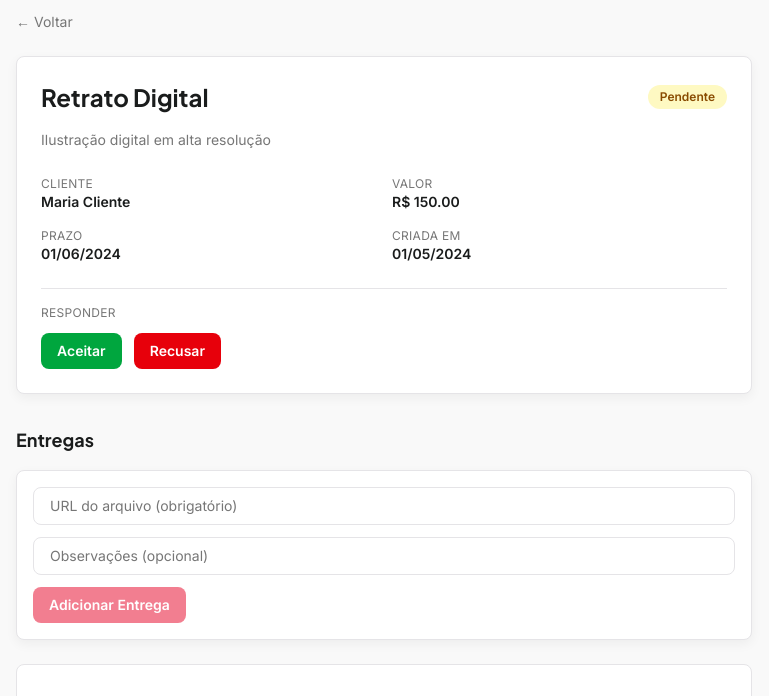
Test case: ArtistaComissaoDetalhes › hides accept/refuse and shows status select after accepting
Expected: the heading "Retrato Digital" is shown, [41,81,208,113]
Click the button "Aceitar".
click(81, 351)  # box [41,333,122,369]
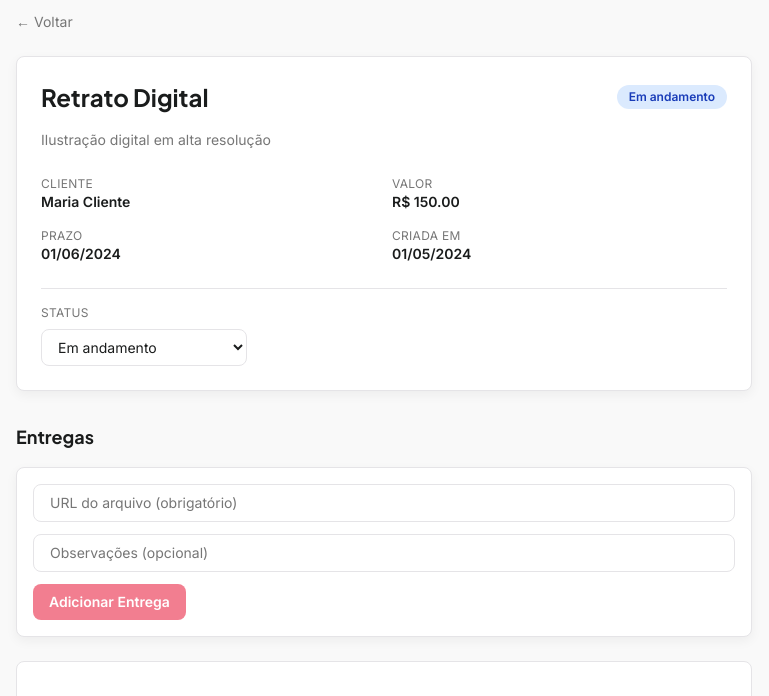
Expected: the dropdown is shown, [41,329,247,366]
Expected: the button "Aceitar" is gone
Expected: the button "Recusar" is gone
